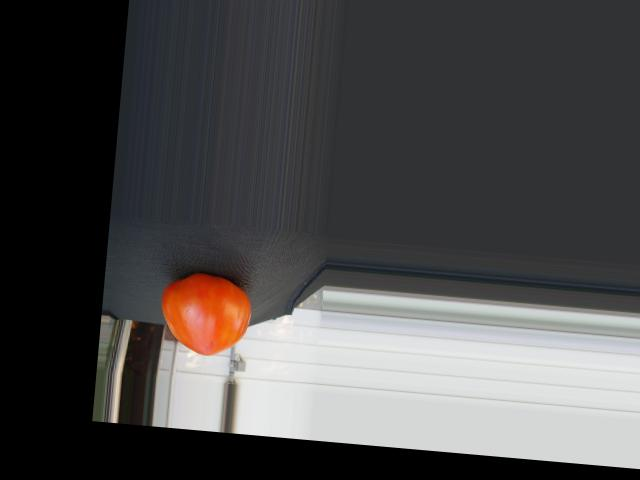tomato: (157, 270, 254, 359)
